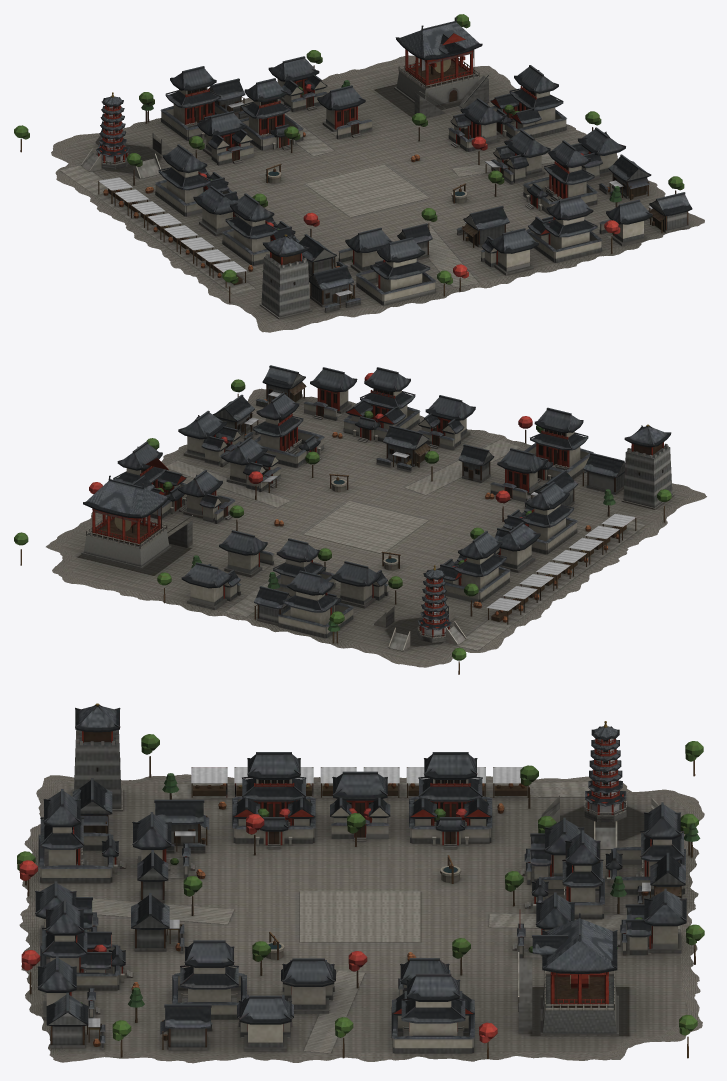
File: kingdoms-town-big-b-sinic.glb
3 renders of one model, top to bottom at view 1: azimuth 30°, elevation 25°; view 2: azimuth 150°, elevation 25°; view 3: azimuth 270°, elevation 25°, orthographic. The views are drawn at different scales.
Parts seen in each view (by area): view 1: LOD0; view 2: LOD0; view 3: LOD0.
Part boxes in pixels (box(x1,y1,x2,y2)): LOD0: box(14, 14, 704, 332); LOD0: box(14, 365, 706, 674); LOD0: box(17, 703, 704, 1063).
Size of what is drawn, in the model's own units: 8.05 by 1.34 by 8.12.
3 materials, 3 textured.
